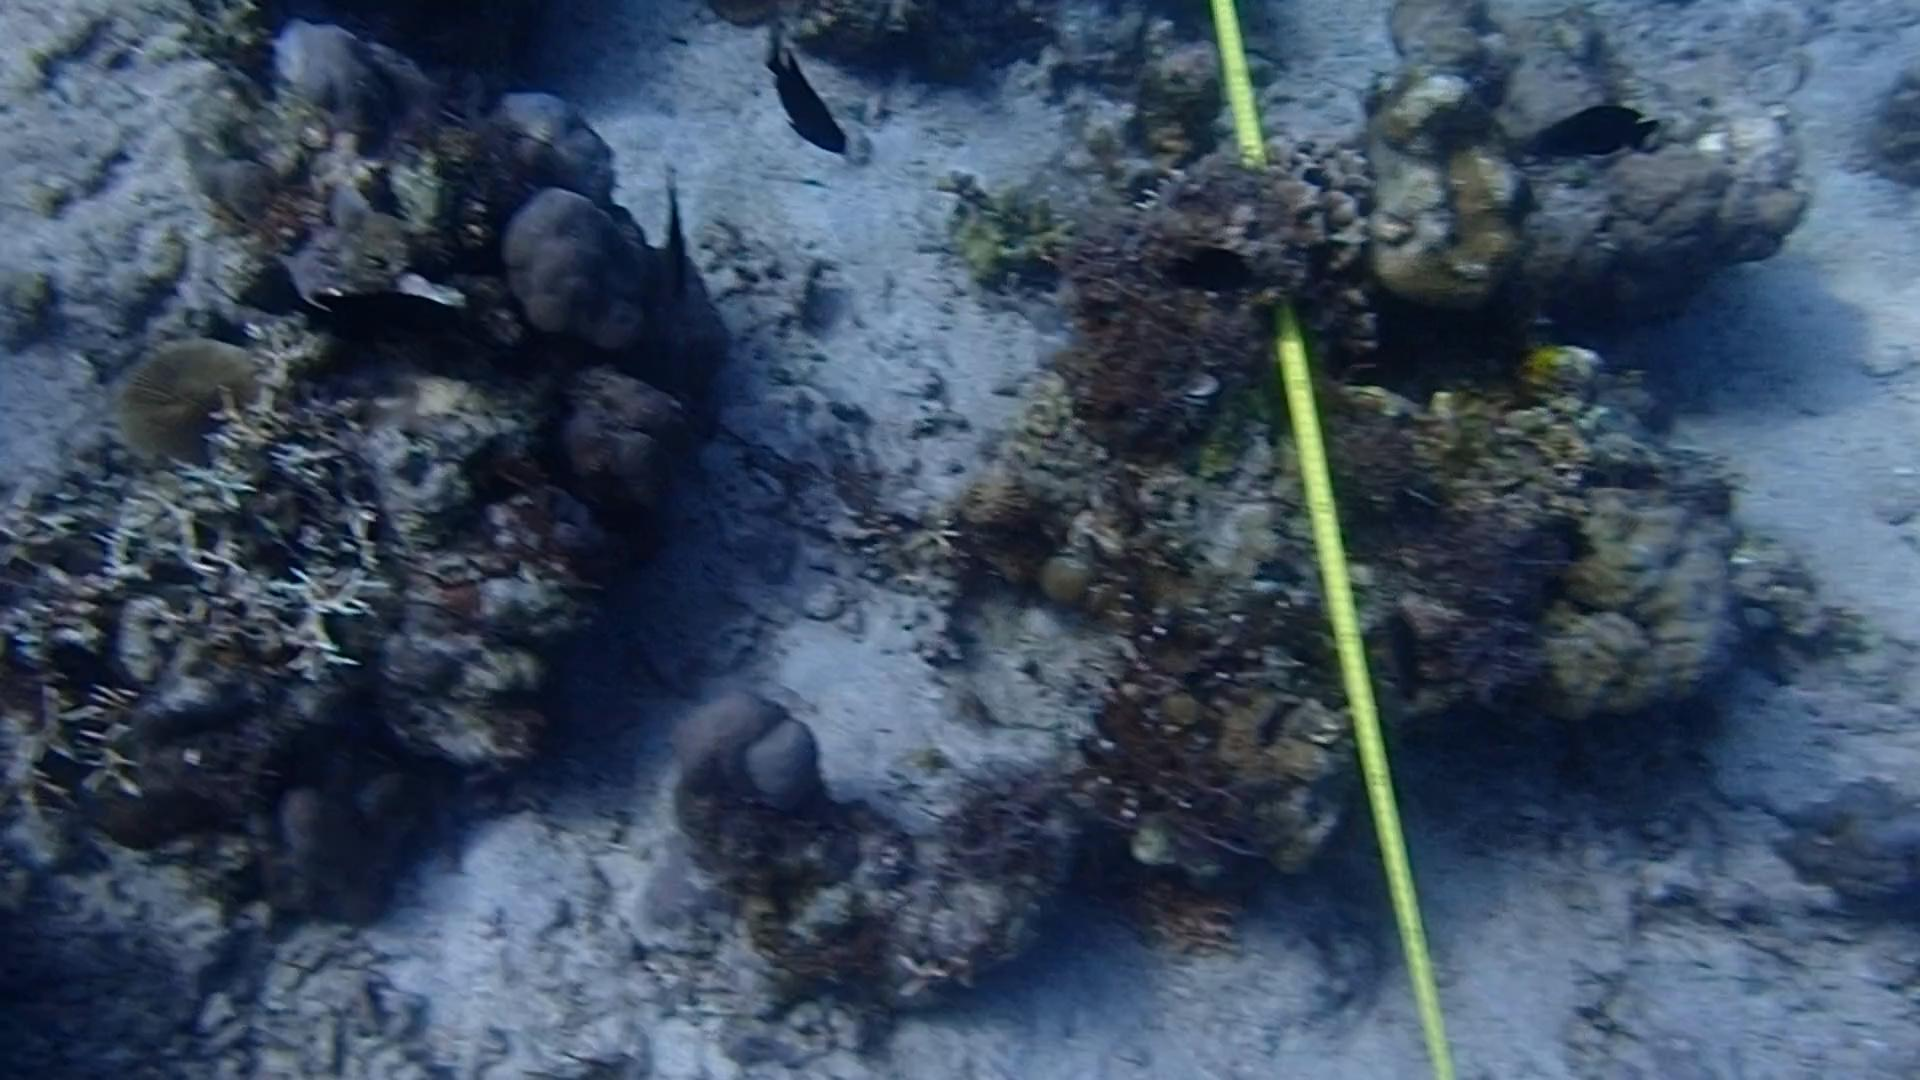Dark Fish: (738, 45, 868, 170), (310, 273, 467, 372), (1523, 80, 1658, 177), (1155, 231, 1276, 335), (1365, 585, 1453, 709), (658, 165, 716, 322)
